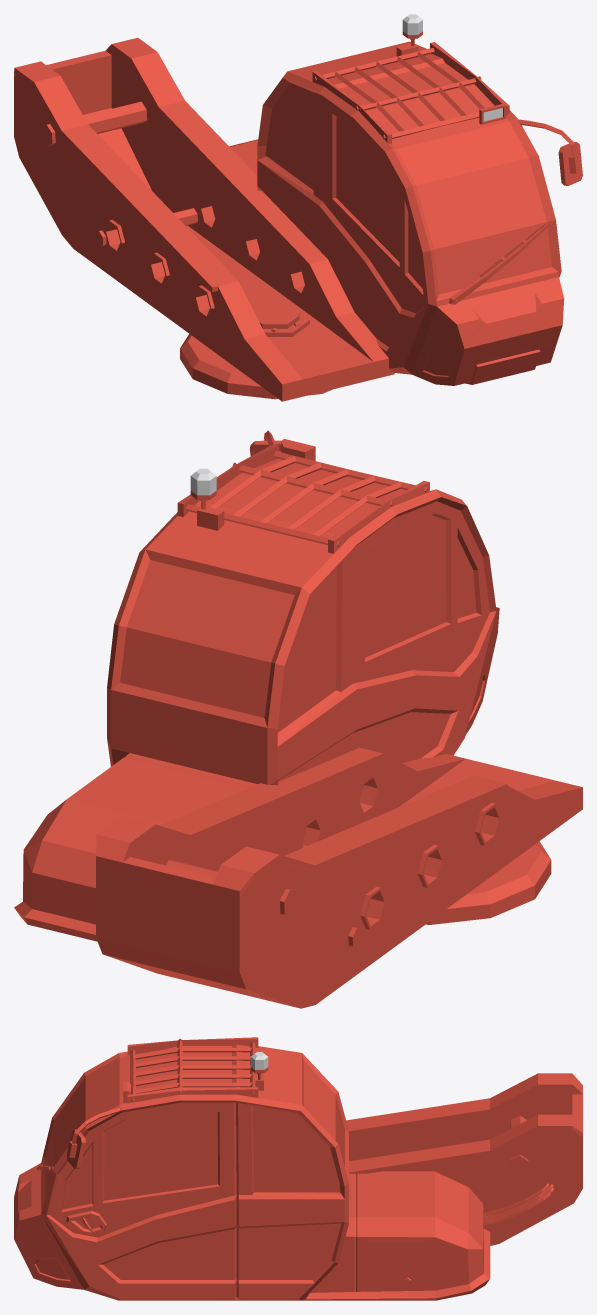
The model's file is SM_Telehandler_Cabin.fbx.
3 renders of one model, top to bottom at view 1: azimuth 30°, elevation 25°; view 2: azimuth 150°, elevation 25°; view 3: azimuth 270°, elevation 25°, orthographic. The views are drawn at different scales.
Visible parts, largest first — view 1: SM_Telehandler_Cabin; view 2: SM_Telehandler_Cabin; view 3: SM_Telehandler_Cabin.
Boxes of the visible parts, x1=… form: SM_Telehandler_Cabin: x1=14, y1=14, x2=582, y2=401; SM_Telehandler_Cabin: x1=14, y1=430, x2=582, y2=1008; SM_Telehandler_Cabin: x1=14, y1=1037, x2=582, y2=1300.
Bounding box in the file's own units: 380 × 205 × 186.
